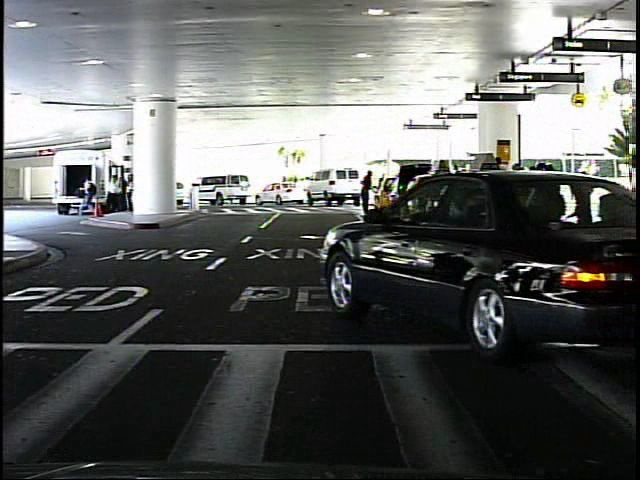person: (359, 164, 382, 220), (578, 165, 598, 222)
